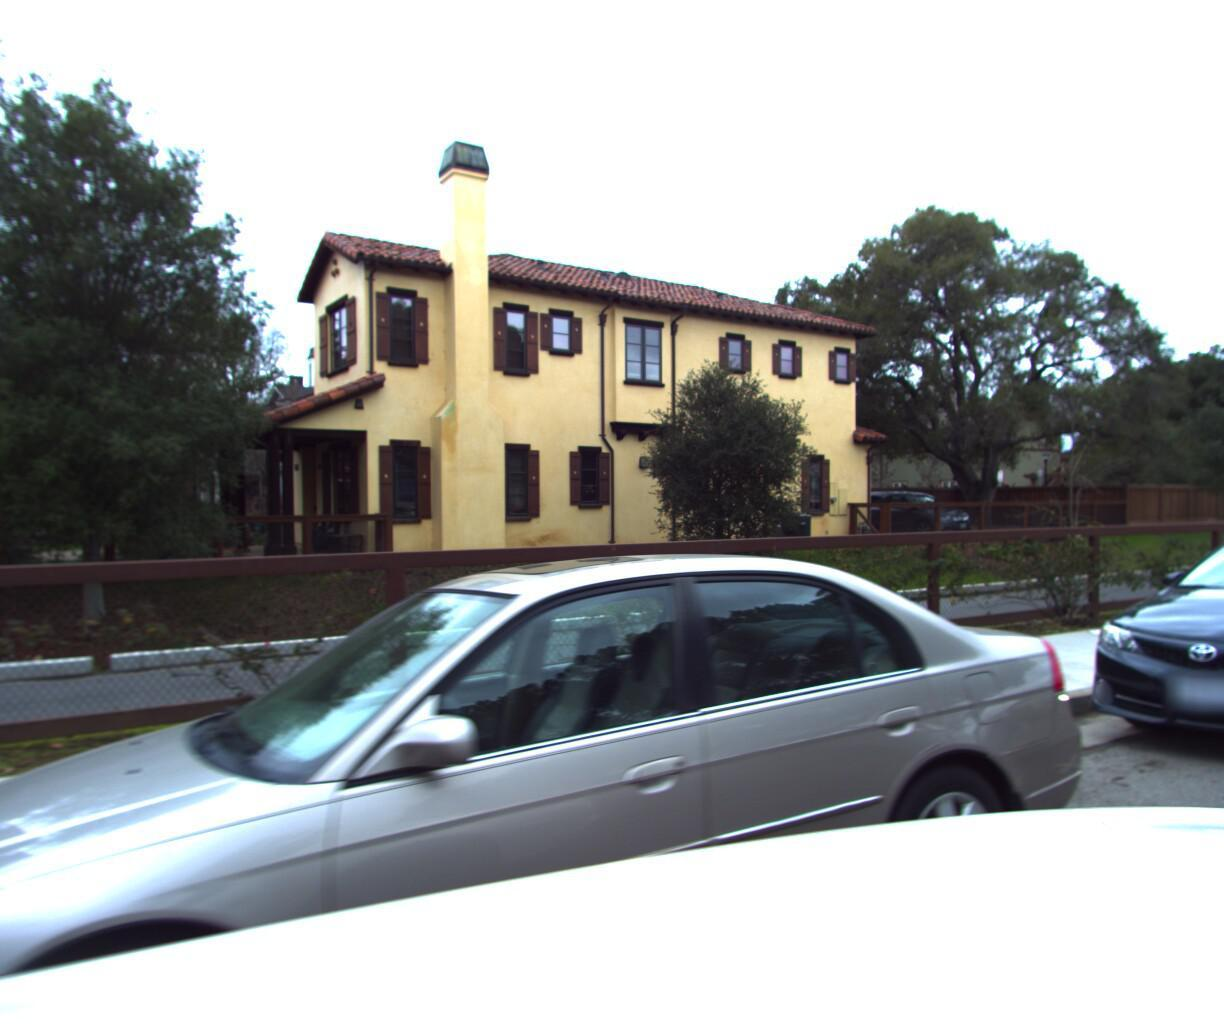car: (0, 535, 1118, 1024), (1061, 502, 1224, 818)
